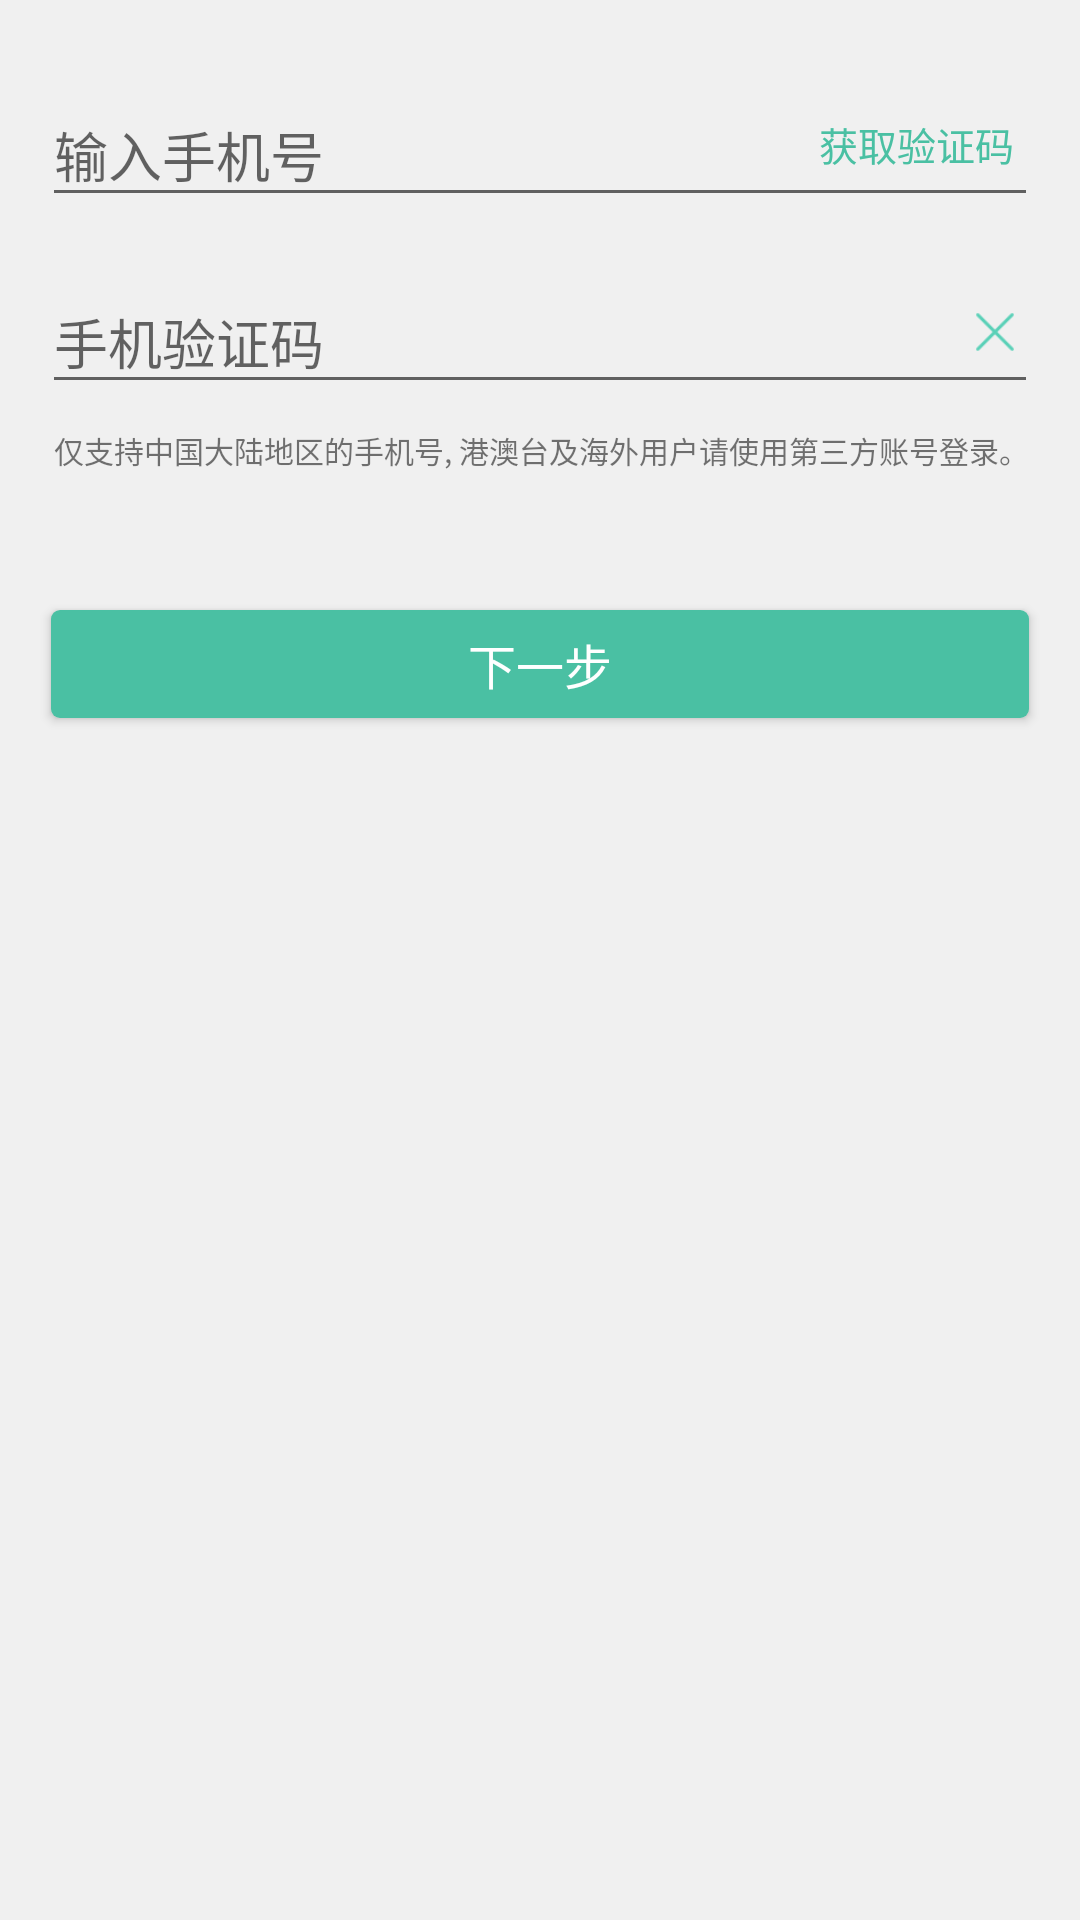

Point at icon controls on the screen. Image size 1080 x 1920, points as (x=x, y=y).
clear text: (x=995, y=332)
